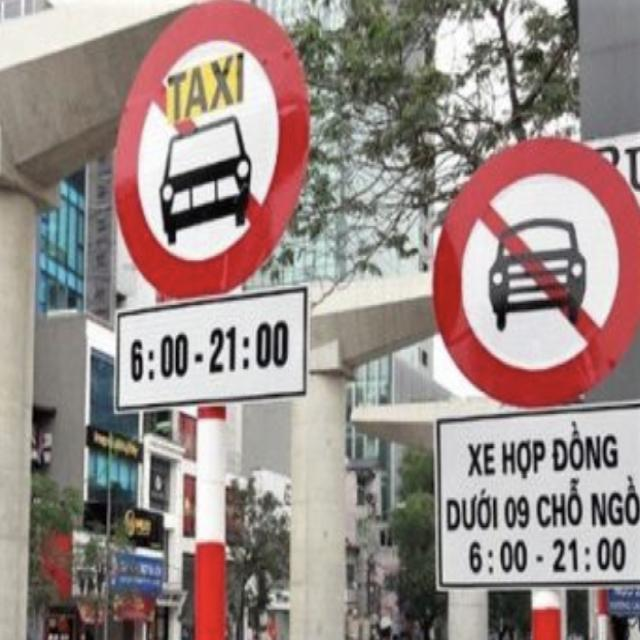103a-cam-oto: (115, 0, 311, 306), (428, 135, 640, 409)
